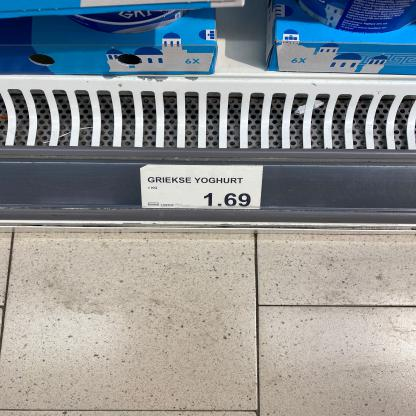prtg: (141, 166, 264, 210)
